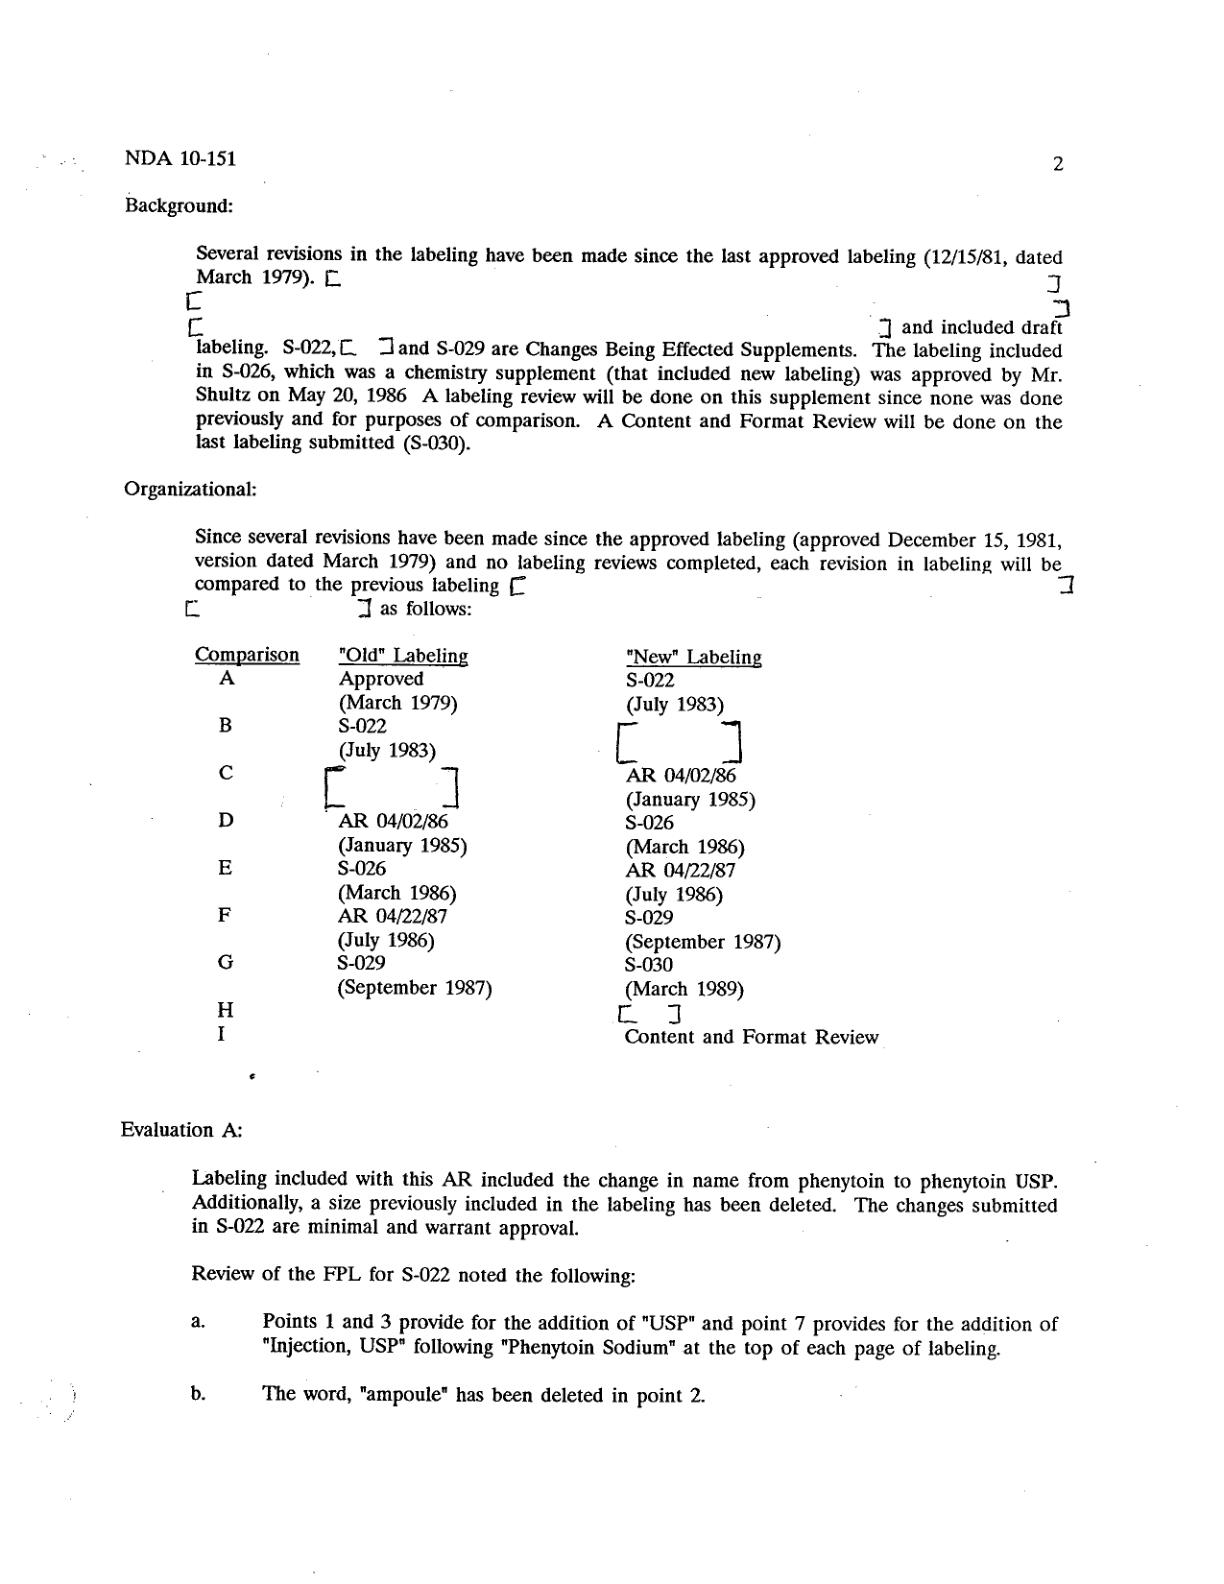nolines: (192, 642, 879, 1050)
